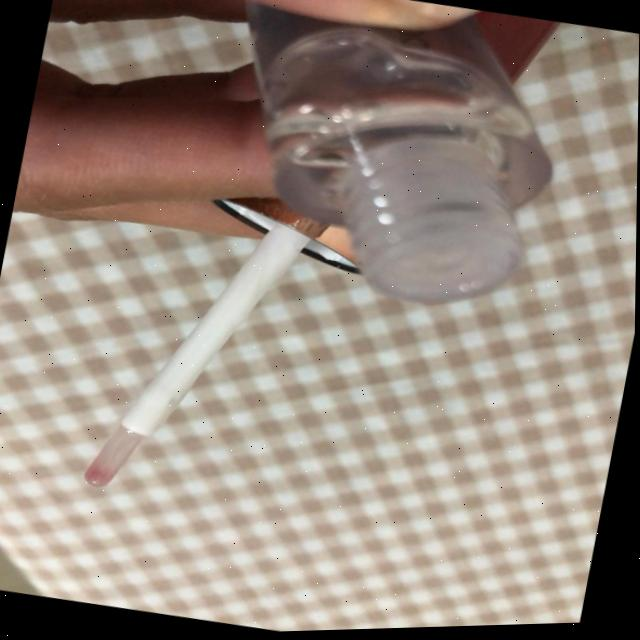Tint: (169, 0, 620, 360), (39, 379, 205, 507)
